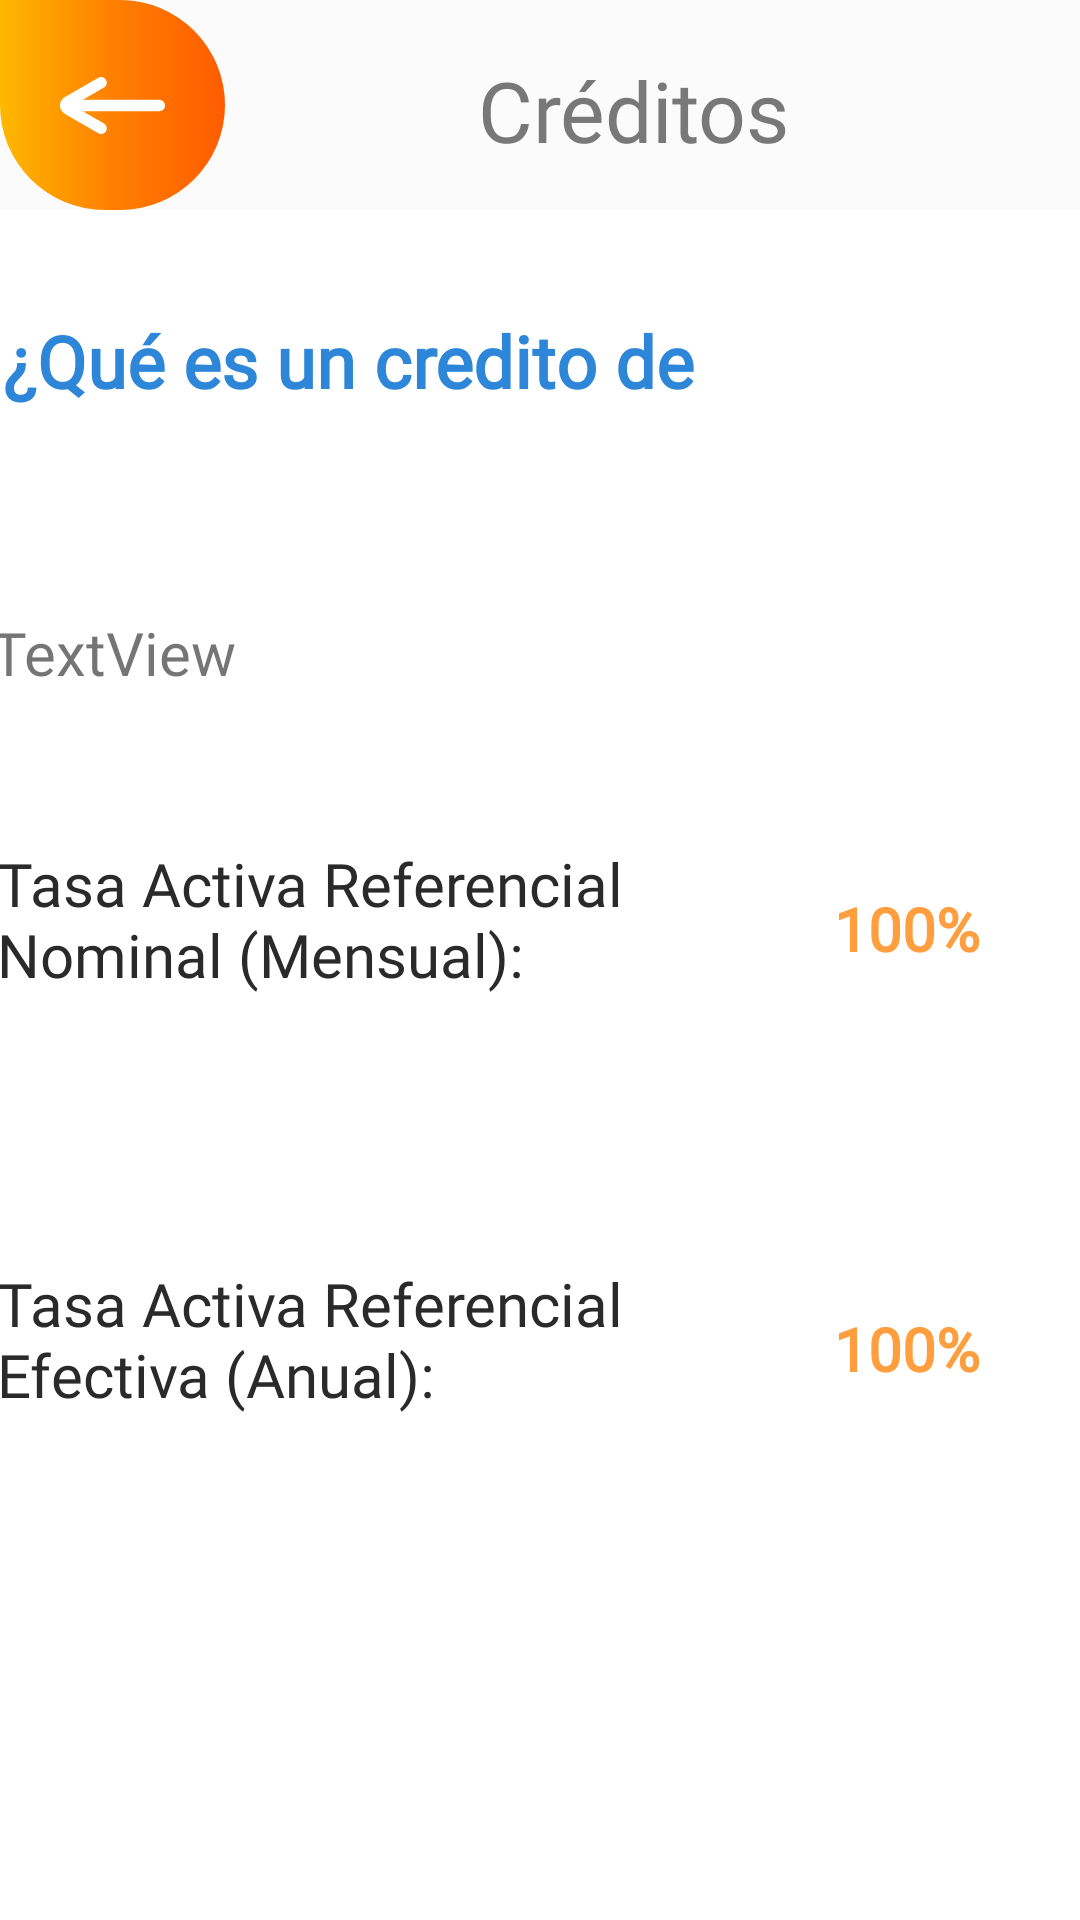

Screen size 1080*1920. Icon name, then its box in pixels as (x1=x1, y1=y1, x2=x2, y2=y2):
backarrow: (x1=0, y1=0, x2=225, y2=210)
